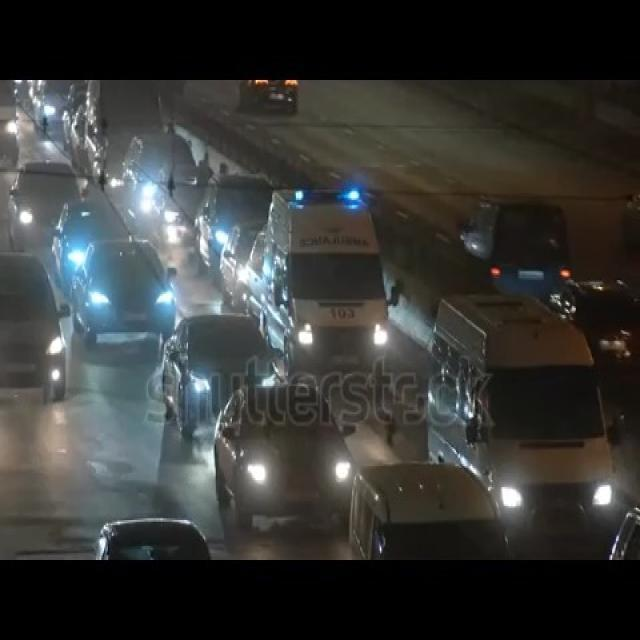emergency: (269, 190, 389, 378)
